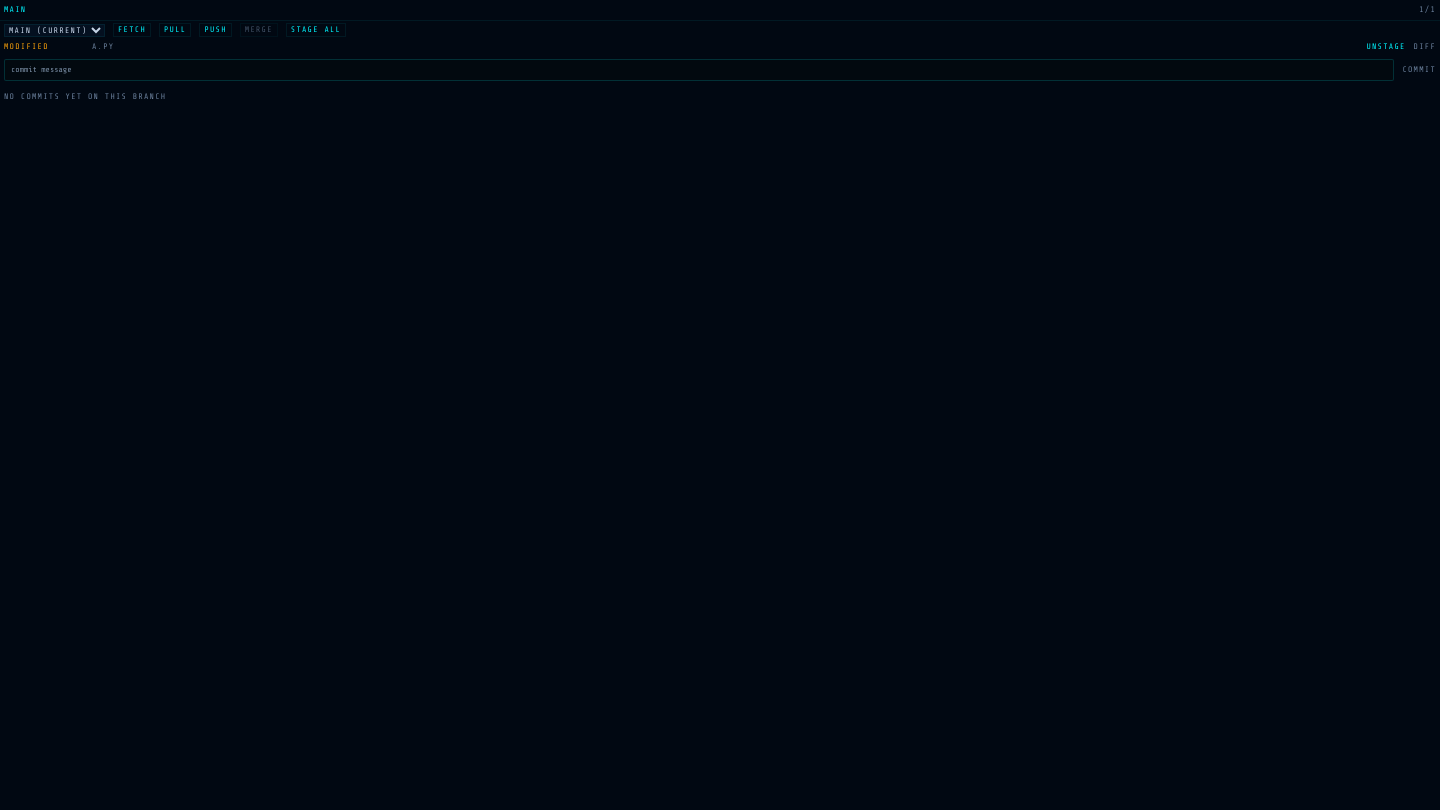
Scenario: GitPanel › previews a consequential verb, then runs only on the token
Type "wip" into the field labelled "commit message" at (699, 70), box [4,59,1394,81]
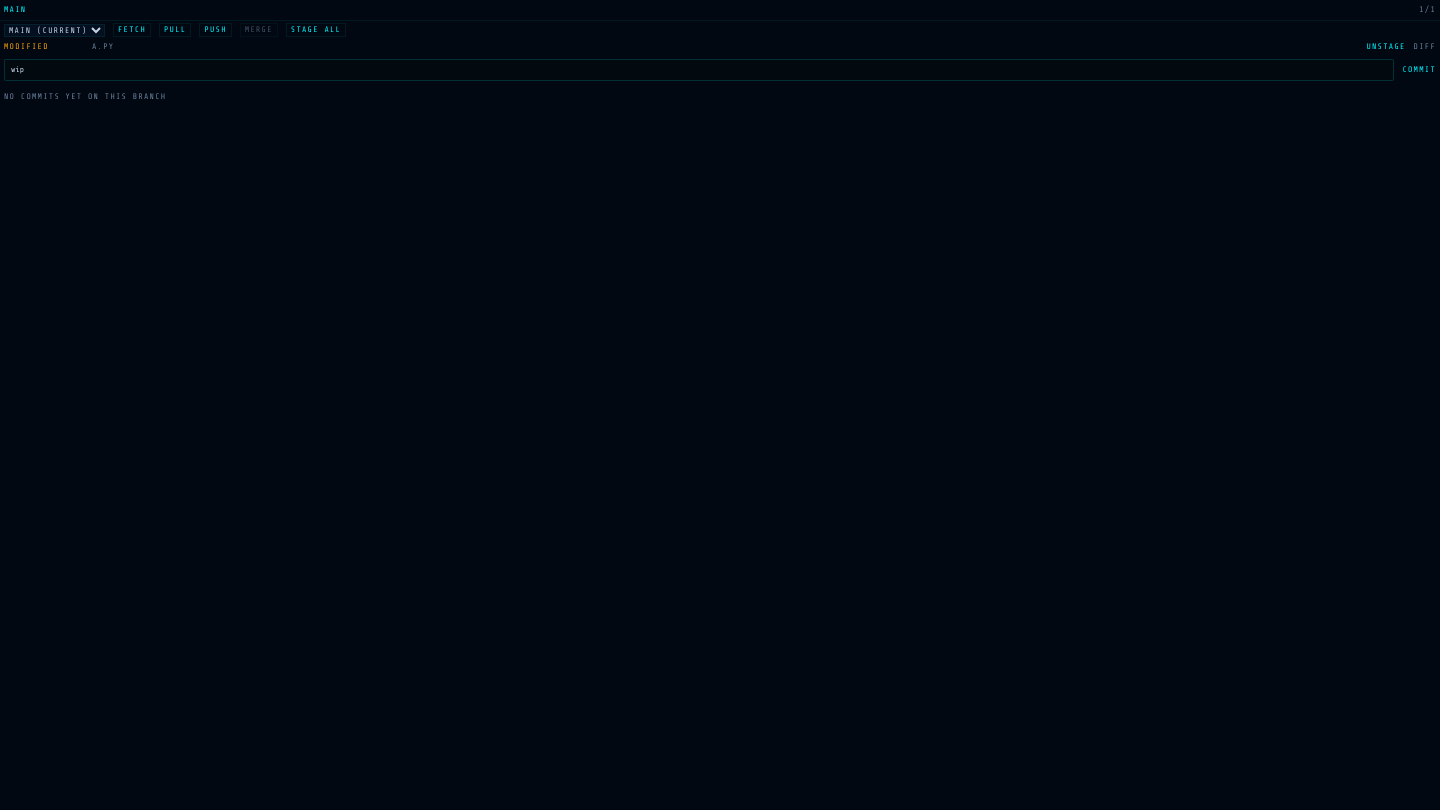
Click the button "Commit" at (1419, 70), box [1402,64,1436,76]
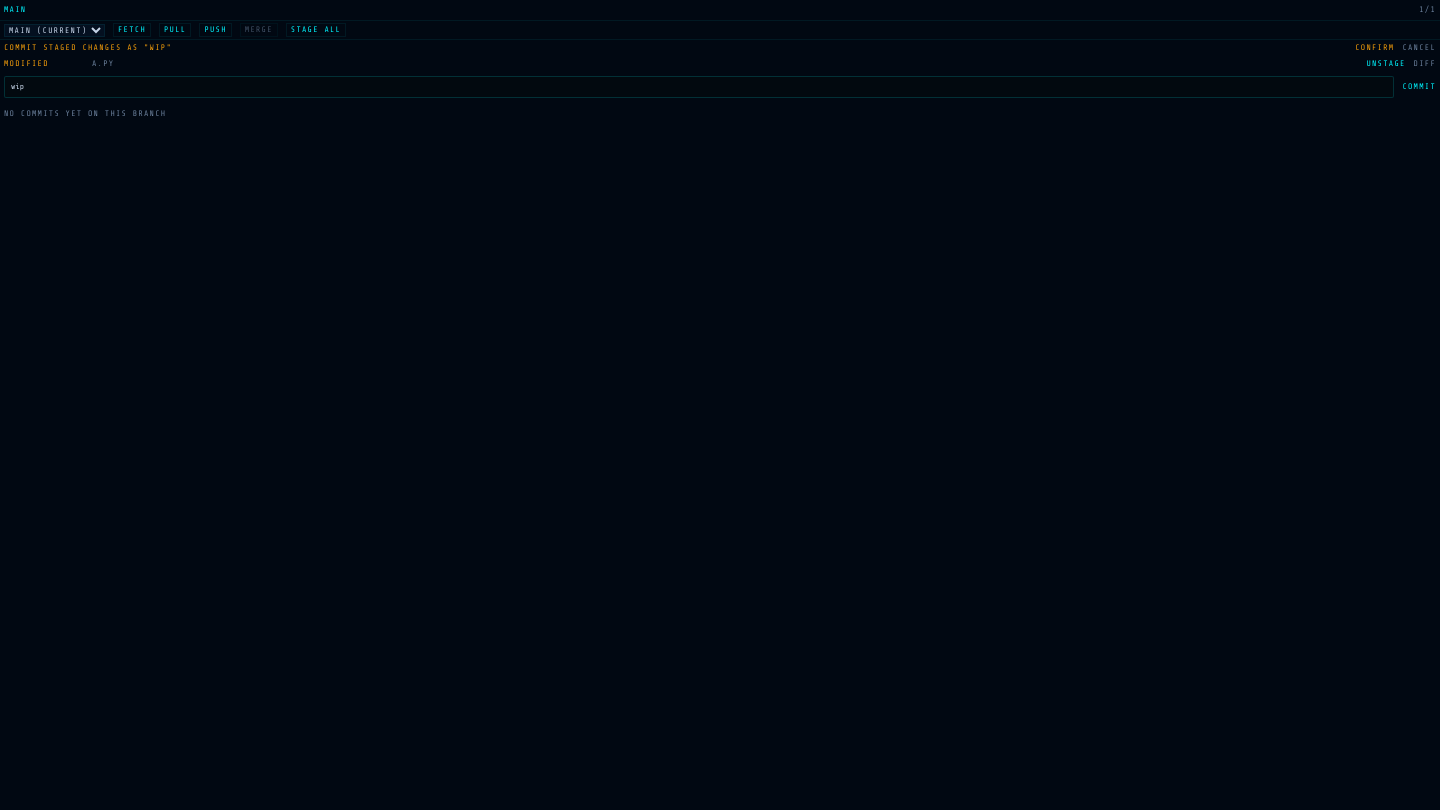
Expected: the dialog shows "Commit staged changes as \"wip\"", [4,43,172,52]
Click the button "CONFIRM" at (1375, 48), box [1355,42,1394,54]
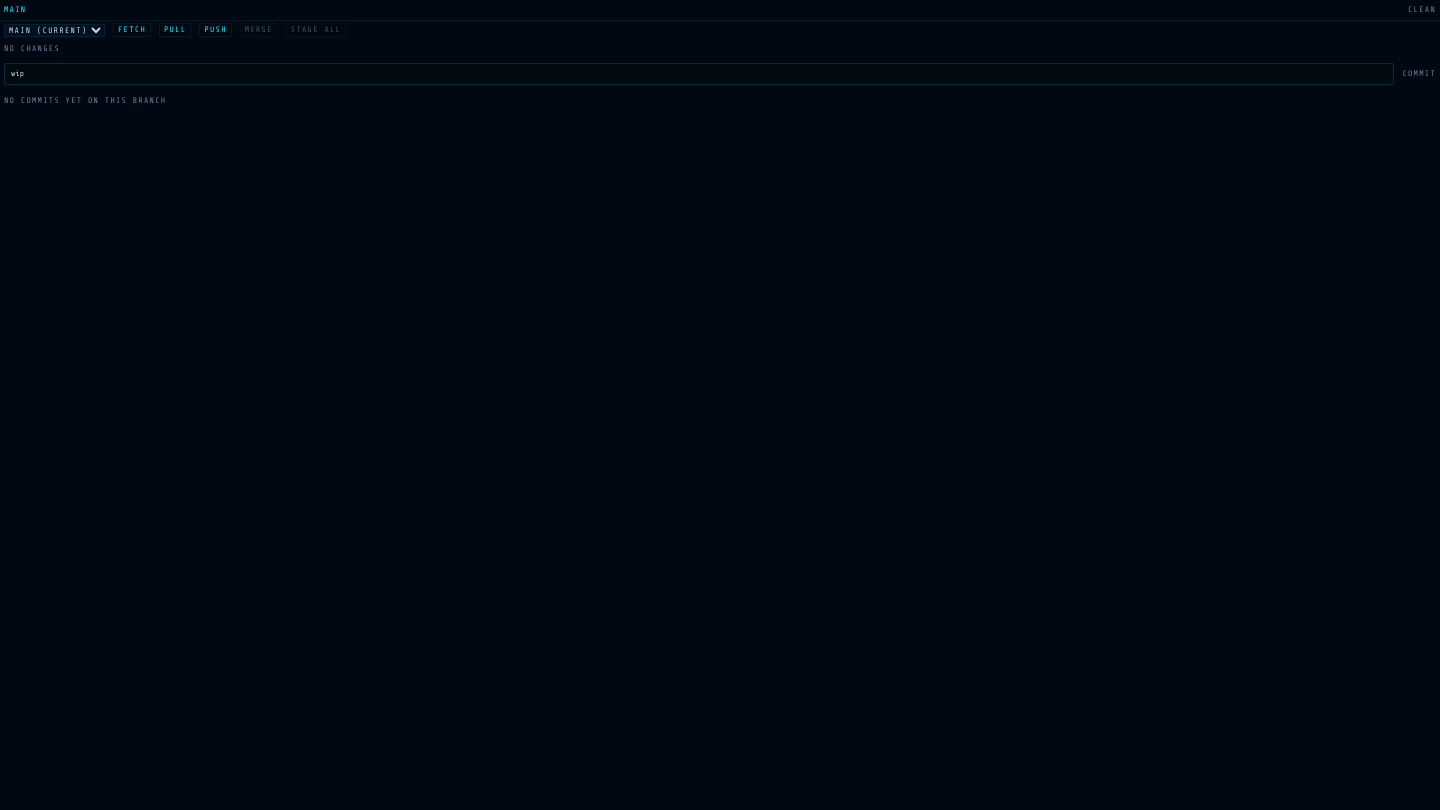
Expected: the dialog is gone
